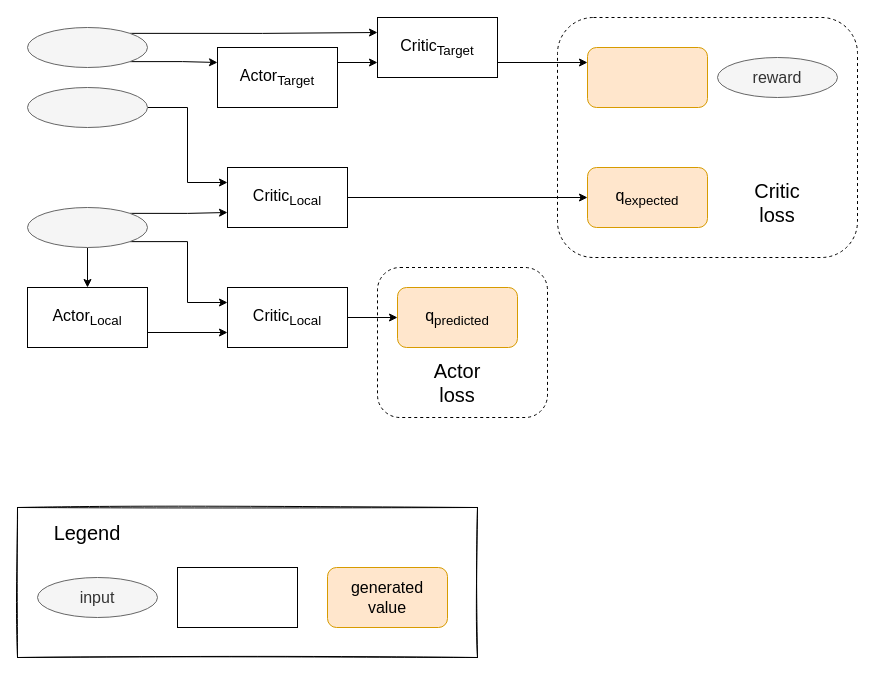
Image size: 875x675. Some labels were removed from this diagram. The shapes that lost their labels are listed below. From the top down, each one's centre as x and y in pixels, then its label:
At (87,47): "state next".
At (647,77): "q next".
At (87,107): "action".
At (87,227): "state".
At (237,597): "model".
